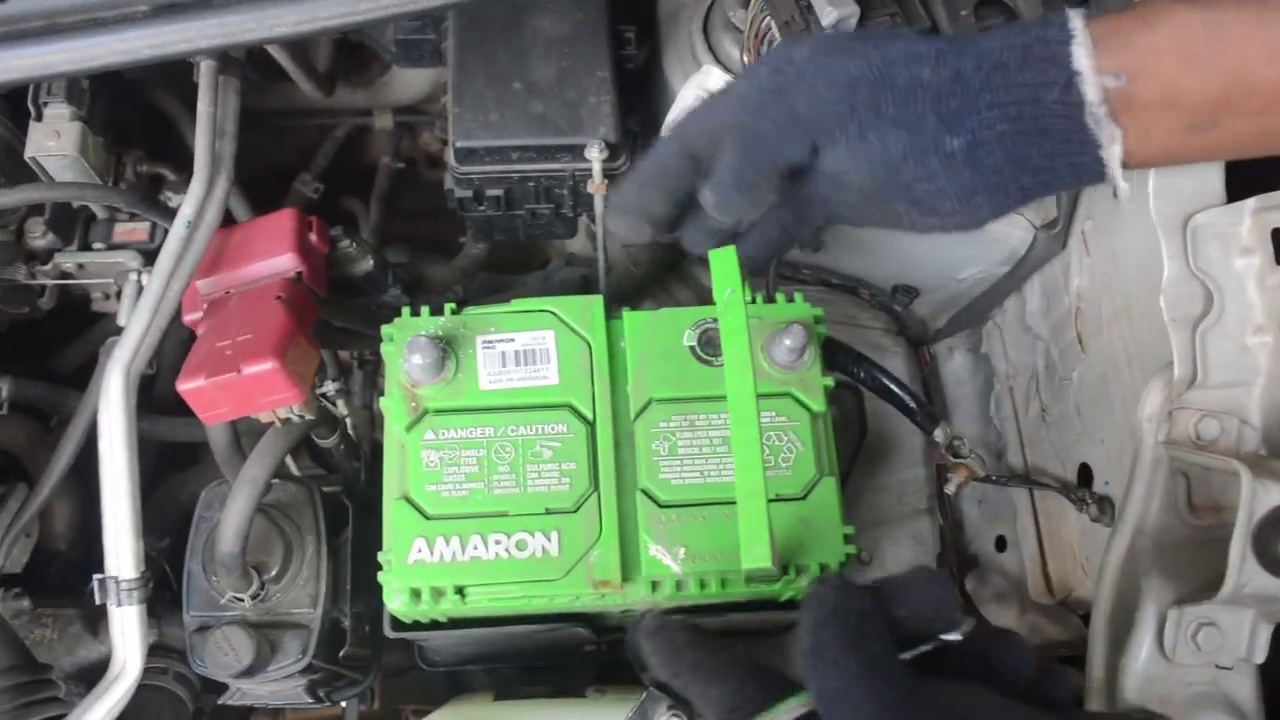battery: (380, 286, 852, 591)
neg_connected: (748, 302, 850, 386)
pos_disconnected: (183, 193, 461, 419)
